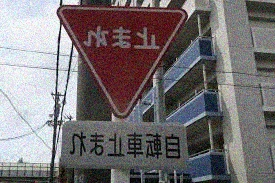Regulatory_sign_triangle: (55, 5, 195, 117)
